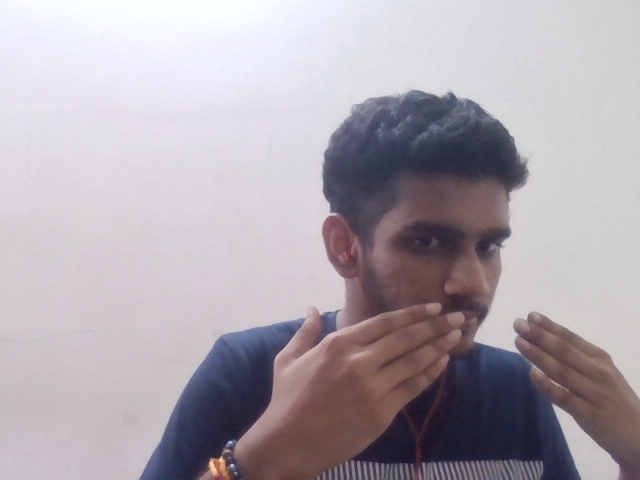thanks: (244, 296, 635, 467)
